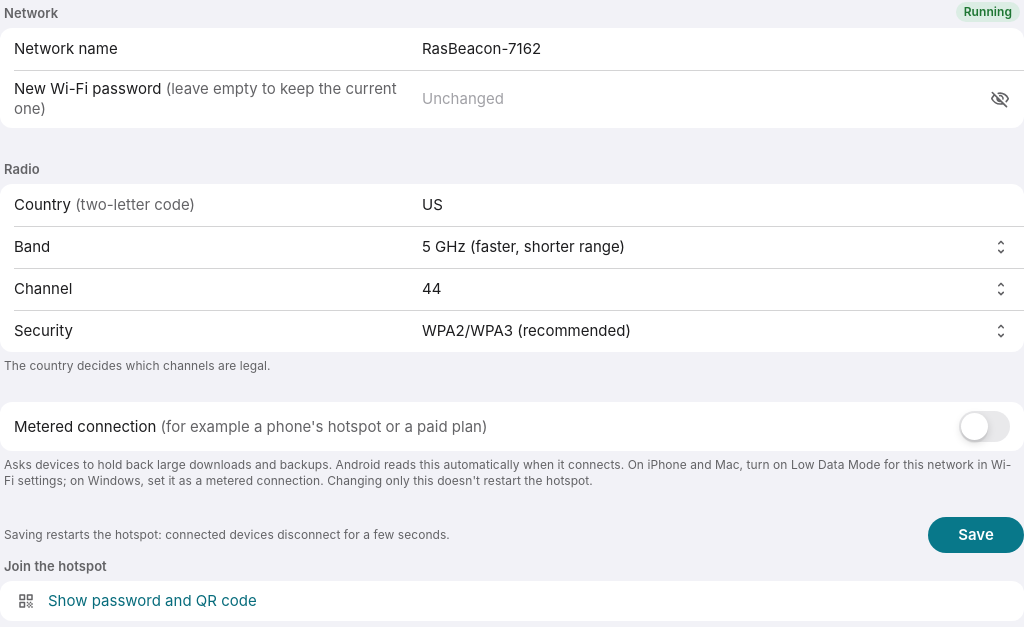
Test: hotspot network › shows the password and QR code without asking for the admin password
The image size is (1024, 627).
Click the button "Show password and QR code" at (152, 600), box [0,581,1023,621]
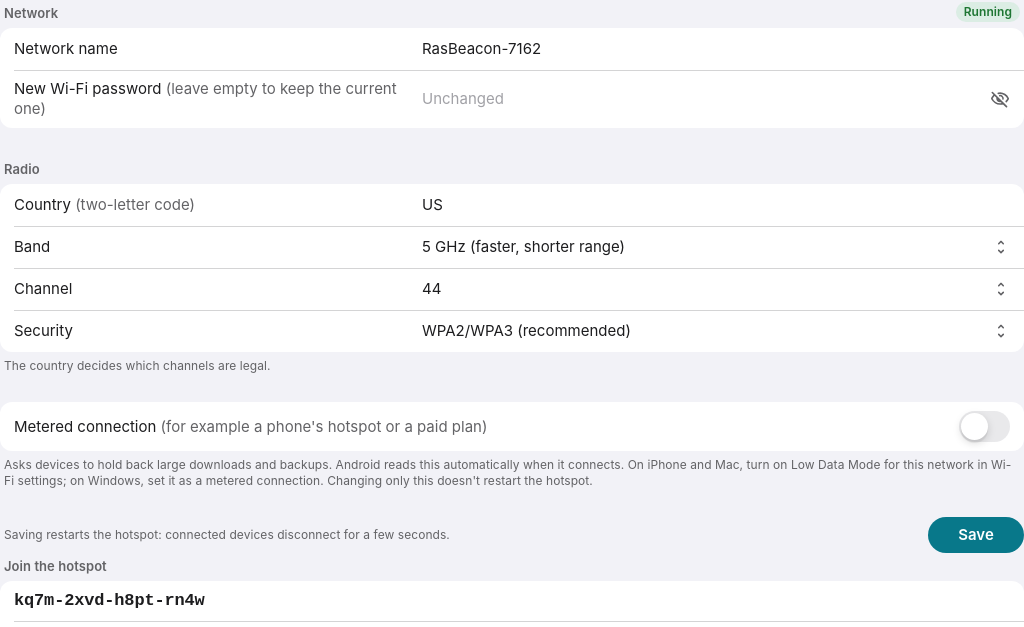
Check: the text "kq7m-2xvd-h8pt-rn4w" is shown, box [14,591,205,610]
